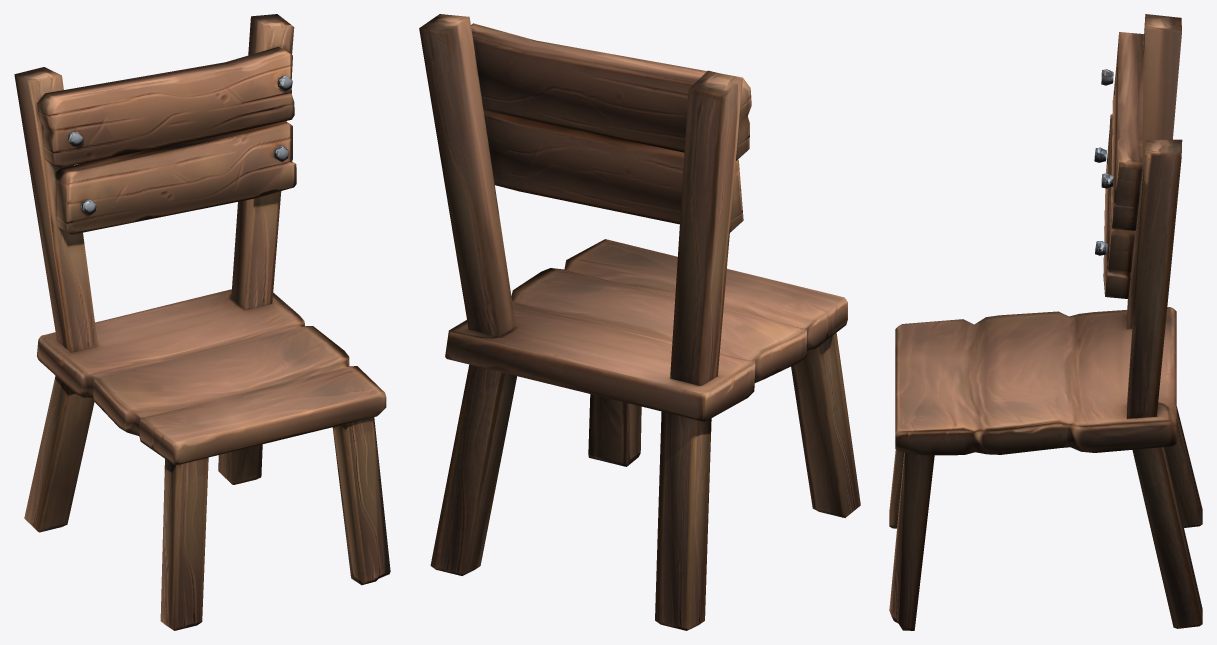
File: wooden_chair_3d_model.fbx
The picture shows the model from 3 angles, left to right: view 1: azimuth 30°, elevation 25°; view 2: azimuth 150°, elevation 25°; view 3: azimuth 270°, elevation 25°; orthographic projection. The views are drawn at different scales.
Parts seen in each view (by area): view 1: tripo_node_91177d2f; view 2: tripo_node_91177d2f; view 3: tripo_node_91177d2f.
Part boxes in pixels (<box>): tripo_node_91177d2f: <box>14,14,390,630</box>; tripo_node_91177d2f: <box>419,14,860,630</box>; tripo_node_91177d2f: <box>889,14,1202,630</box>.
Bounding box in the file's own units: 0.5894 × 0.9995 × 0.5767.
